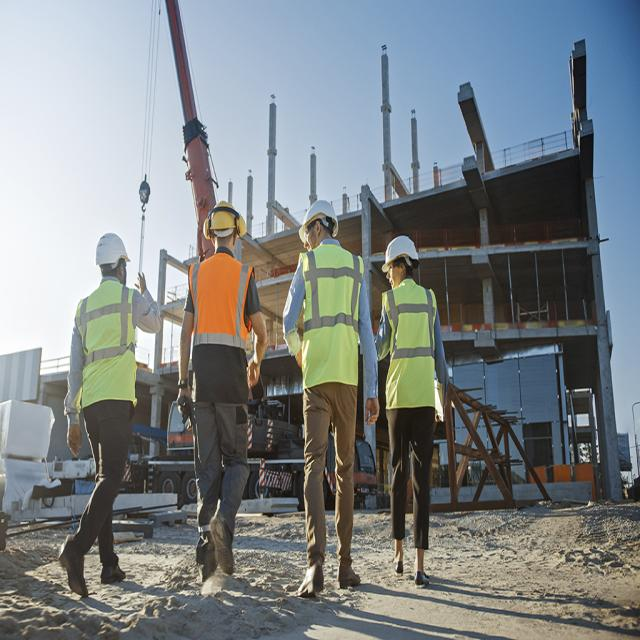helmet: (200, 188, 250, 251), (294, 191, 344, 254), (374, 221, 430, 272), (90, 223, 136, 282)
shoes: (51, 521, 93, 614), (202, 509, 245, 599), (94, 549, 139, 598), (289, 550, 330, 603), (333, 542, 365, 606), (186, 534, 220, 590), (408, 532, 434, 599), (389, 527, 408, 592)
vest: (364, 262, 456, 447), (289, 228, 370, 410), (181, 235, 260, 420), (54, 283, 148, 432)
